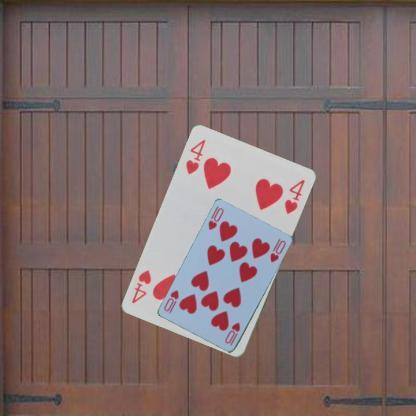10h: (206, 205, 226, 232), (223, 320, 242, 347)
4h: (183, 136, 208, 176)
